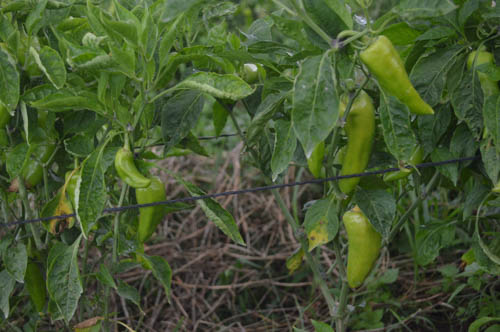ChiliPepper: (366, 39, 436, 121), (341, 210, 378, 287), (337, 98, 366, 195), (138, 177, 166, 246), (113, 151, 147, 190), (466, 53, 495, 86), (301, 147, 324, 180)
